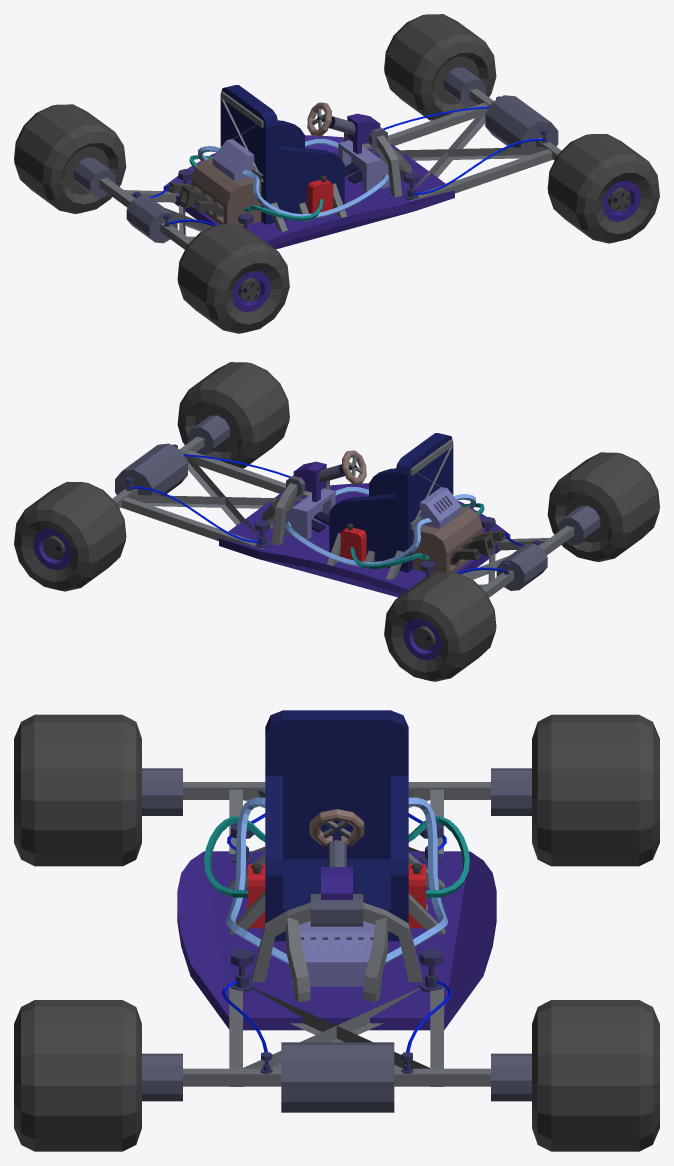
Rendered from starter.glb.
The picture shows the model from 3 angles, top to bottom: view 1: azimuth 30°, elevation 25°; view 2: azimuth 150°, elevation 25°; view 3: azimuth 270°, elevation 25°; orthographic projection. The views are drawn at different scales.
Visible parts, largest first — view 1: Cube; view 2: Cube; view 3: Cube.
Part boxes in pixels (x1,y1,x2,y2): Cube: (14,14,659,333); Cube: (14,362,659,681); Cube: (14,710,659,1151).
Size of the model in its own units: 8.64 by 2.53 by 6.75.
